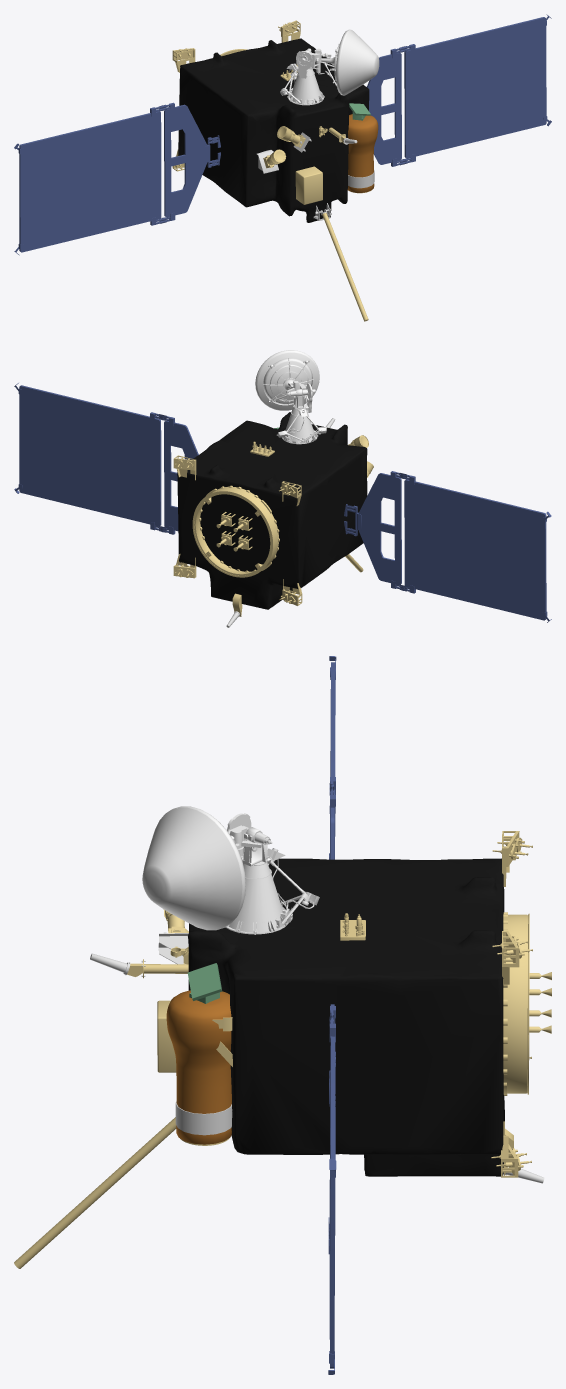
File: kplo.glb
3 views of the same model, one above another, from view 1: azimuth 30°, elevation 25°; view 2: azimuth 150°, elevation 25°; view 3: azimuth 270°, elevation 25° (orthographic). The views are drawn at different scales.
Visible parts, largest first — view 1: solar (×2), bus (×3), hga (×2), shadowcam, mag; view 2: solar (×2), bus (×2), hga; view 3: bus (×3), hga (×2), shadowcam (×2), solar (×2), mag.
Part boxes in pixels (<box>): solar (×2): <box>14,14,551,255</box>; bus (×3): <box>172,20,374,222</box>; hga (×2): <box>280,29,379,105</box>; shadowcam: <box>347,114,378,192</box>; mag: <box>322,212,368,321</box>; solar (×2): <box>14,383,551,622</box>; bus (×2): <box>173,412,373,616</box>; hga: <box>255,350,326,444</box>; bus (×3): <box>90,831,551,1183</box>; hga (×2): <box>142,806,319,934</box>; shadowcam (×2): <box>166,963,231,1144</box>; solar (×2): <box>328,656,336,1374</box>; mag: <box>14,1117,176,1268</box>.
Size of the model in its own units: 6.3 by 2.79 by 2.81.
